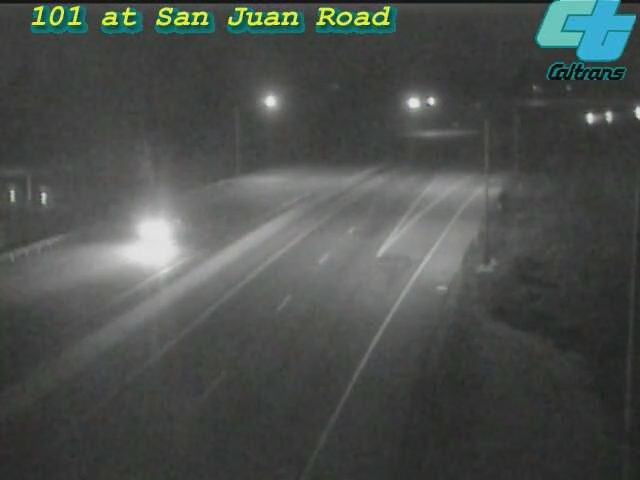vehicle: (111, 196, 191, 276), (585, 90, 635, 140), (567, 93, 617, 143), (612, 89, 640, 139)
